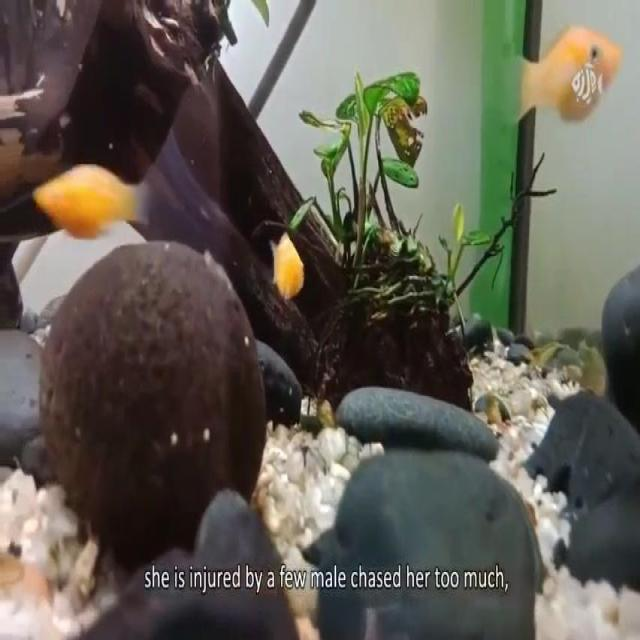PlatyFish: (496, 15, 630, 136), (20, 151, 166, 240), (264, 217, 308, 307)
